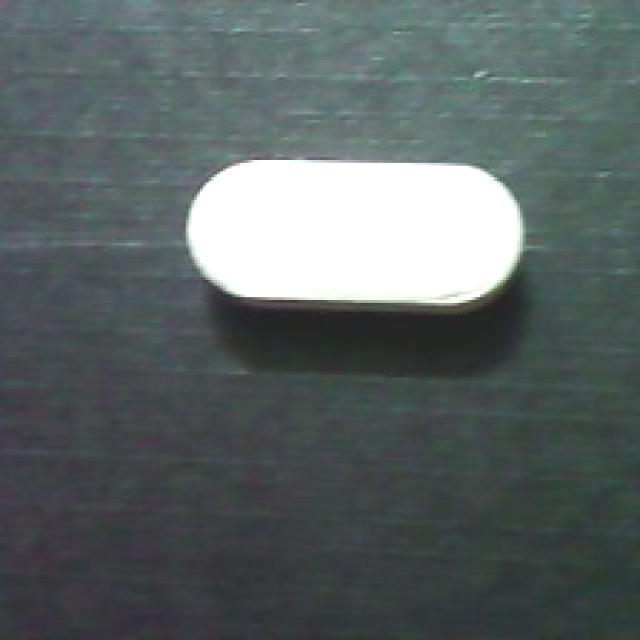no-defect: (180, 157, 529, 323)
